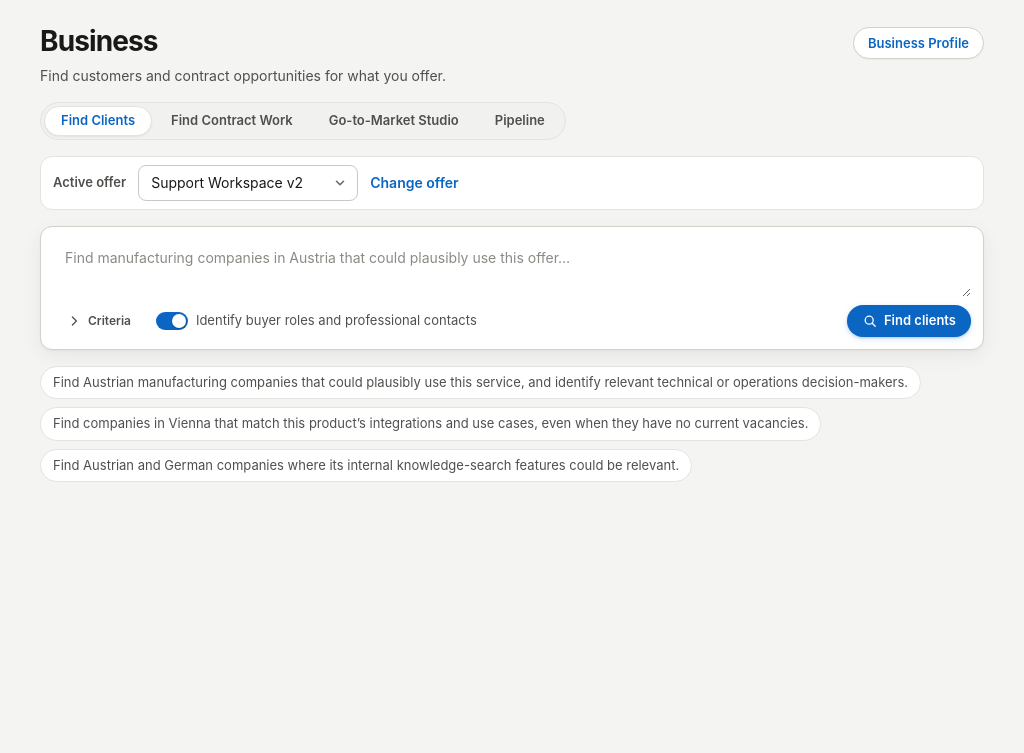
Test: BusinessPage › finds clients for the reviewed offer and saves one as a New Lead
Replace the text in the text box named "Which clients to look for" with "Find Austrian manufacturers" at [512, 268], box [53,239,971,297]
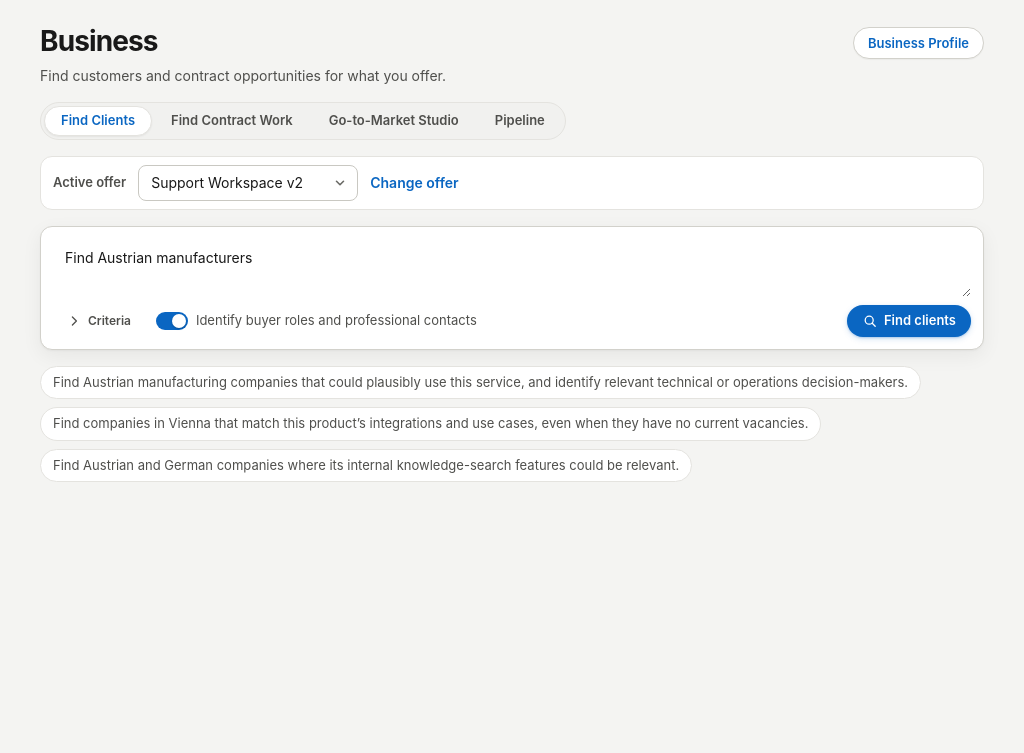
Click the button "Find clients" at [909, 321], box [847,305,971,337]
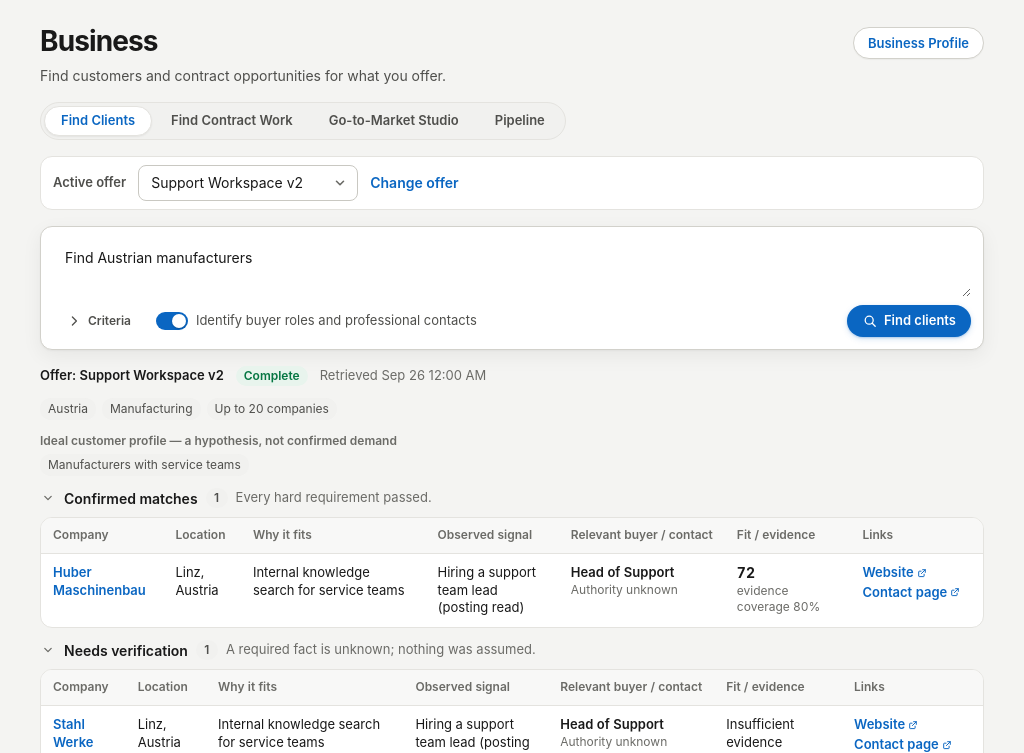
Result: the button "Huber Maschinenbau" is shown
Result: the text "72" is shown at [737,564,755,581]
Result: the text "evidence coverage 80%" is shown at [737,583,820,614]
Click the button "Huber Maschinenbau" at [102, 582], box [53,564,151,599]
(page scrolled)
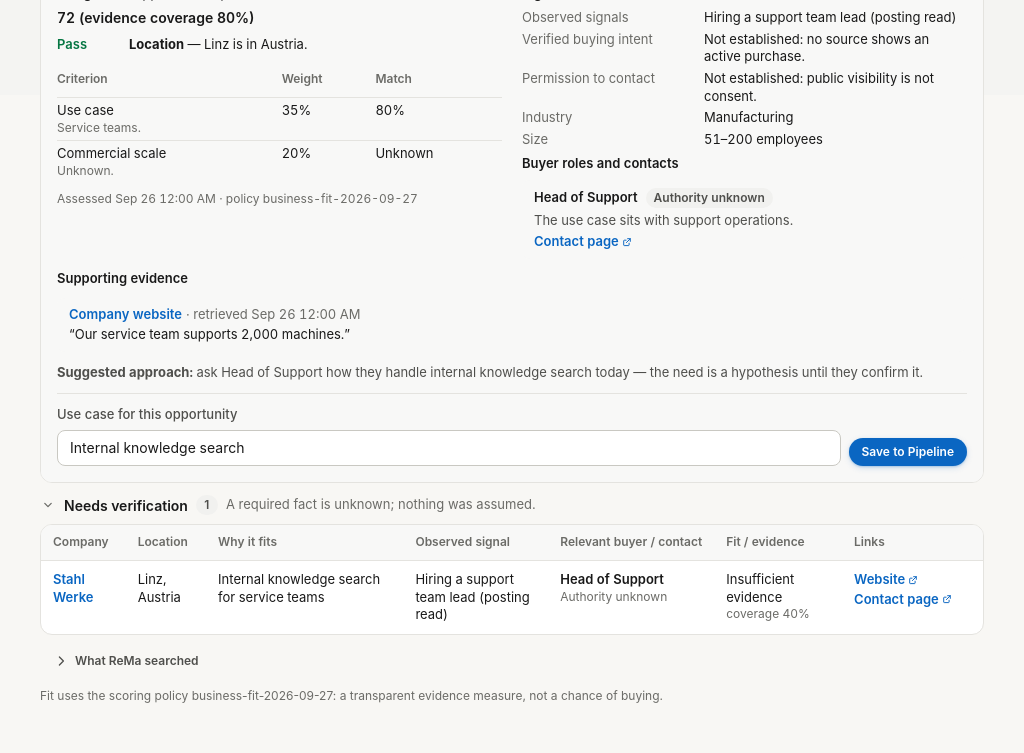
Result: the text "Not established: no source shows an active purchase." is shown at [704,31,967,66]
Click the button "Save to Pipeline" at [908, 452], box [848,438,967,466]
(page scrolled)
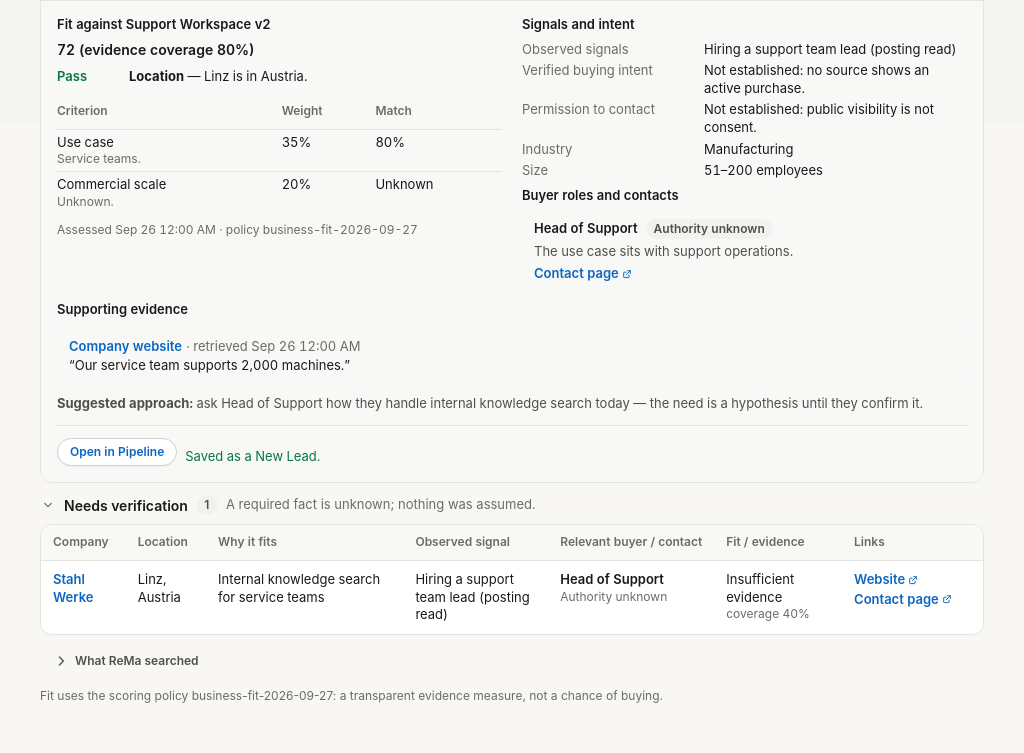
Result: the text "Saved as a New Lead." is shown at [185,448,320,466]
